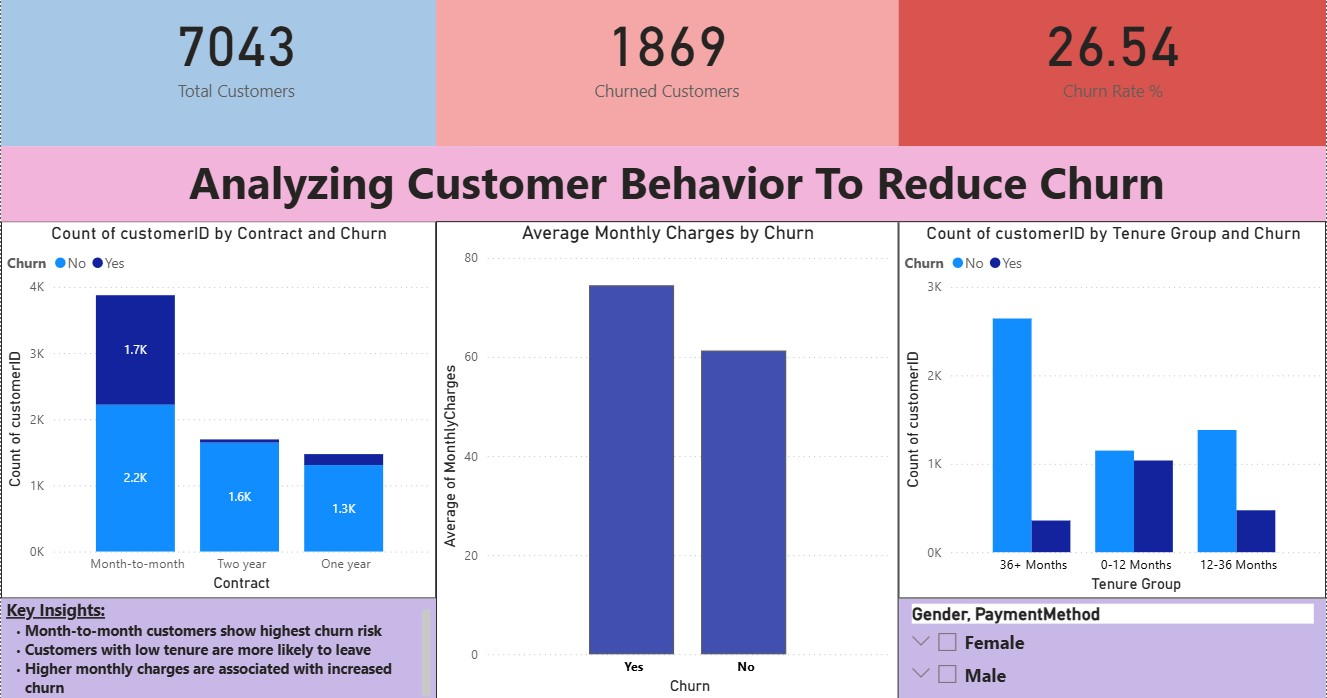

The dashboard page shown, as its layout file describes it:
{"tool":"powerbi","page":{"name":"Page 1","canvas":[1280,720],"ordinal":0},"visuals":[{"type":"card","fields":{"Values":["CountNonNull(Telco Customer Churn.customerID)"]},"box":[0,0,454.6,184.7],"z":0},{"type":"card","fields":{"Values":["CountNonNull(Telco Customer Churn.customerID)"]},"box":[419.7,0,446.3,184.7],"z":1},{"type":"card","fields":{"Values":["Telco Customer Churn.Churn Rate %"]},"box":[865.9,0,414.1,184.7],"z":2},{"type":"columnChart","fields":{"Category":["Telco Customer Churn.Contract"],"Y":["CountNonNull(Telco Customer Churn.customerID)"],"Series":["Telco Customer Churn.Churn"]},"box":[0,257.4,419.7,363.7],"z":3},{"type":"slicer","fields":{"Values":["Telco Customer Churn.gender","Telco Customer Churn.PaymentMethod"]},"box":[865.9,621.1,414.1,99.3],"z":6},{"type":"textbox","box":[0,184.7,1280,72.7],"z":7},{"type":"textbox","box":[0,621.1,419.7,99.3],"z":8},{"type":"clusteredColumnChart","title":"Average Monthly Charges by Churn","fields":{"Category":["Telco Customer Churn.Churn"],"Y":["Avg(Telco Customer Churn.MonthlyCharges)"]},"box":[419.7,257.4,446.3,463],"z":9},{"type":"clusteredColumnChart","fields":{"Category":["Telco Customer Churn.Tenure Group"],"Y":["CountNonNull(Telco Customer Churn.customerID)"],"Series":["Telco Customer Churn.Churn"]},"box":[865.9,257.4,414.1,363.7],"z":10}]}

Visuals, with their boxes on the page's 1280x720 design canvas (x1, y1, x2, y2). These are canvas units, not pixel positions in the 1327x698 screenshot, which may show the page scaled, cropped or inside an application window:
card - CountNonNull(Telco Customer Churn.customerID): (0,0,455,185)
card - CountNonNull(Telco Customer Churn.customerID): (420,0,866,185)
card - Telco Customer Churn.Churn Rate %: (866,0,1280,185)
columnChart - Telco Customer Churn.Contract x CountNonNull(Telco Customer Churn.customerID): (0,257,420,621)
slicer - Telco Customer Churn.gender x Telco Customer Churn.PaymentMethod: (866,621,1280,720)
textbox: (0,185,1280,257)
textbox: (0,621,420,720)
"Average Monthly Charges by Churn" clusteredColumnChart: (420,257,866,720)
clusteredColumnChart - Telco Customer Churn.Tenure Group x CountNonNull(Telco Customer Churn.customerID): (866,257,1280,621)
